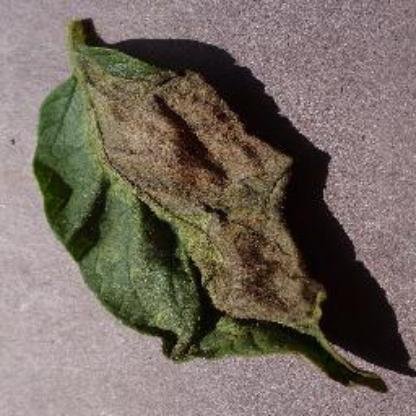Late-Blight: (29, 18, 403, 398)
